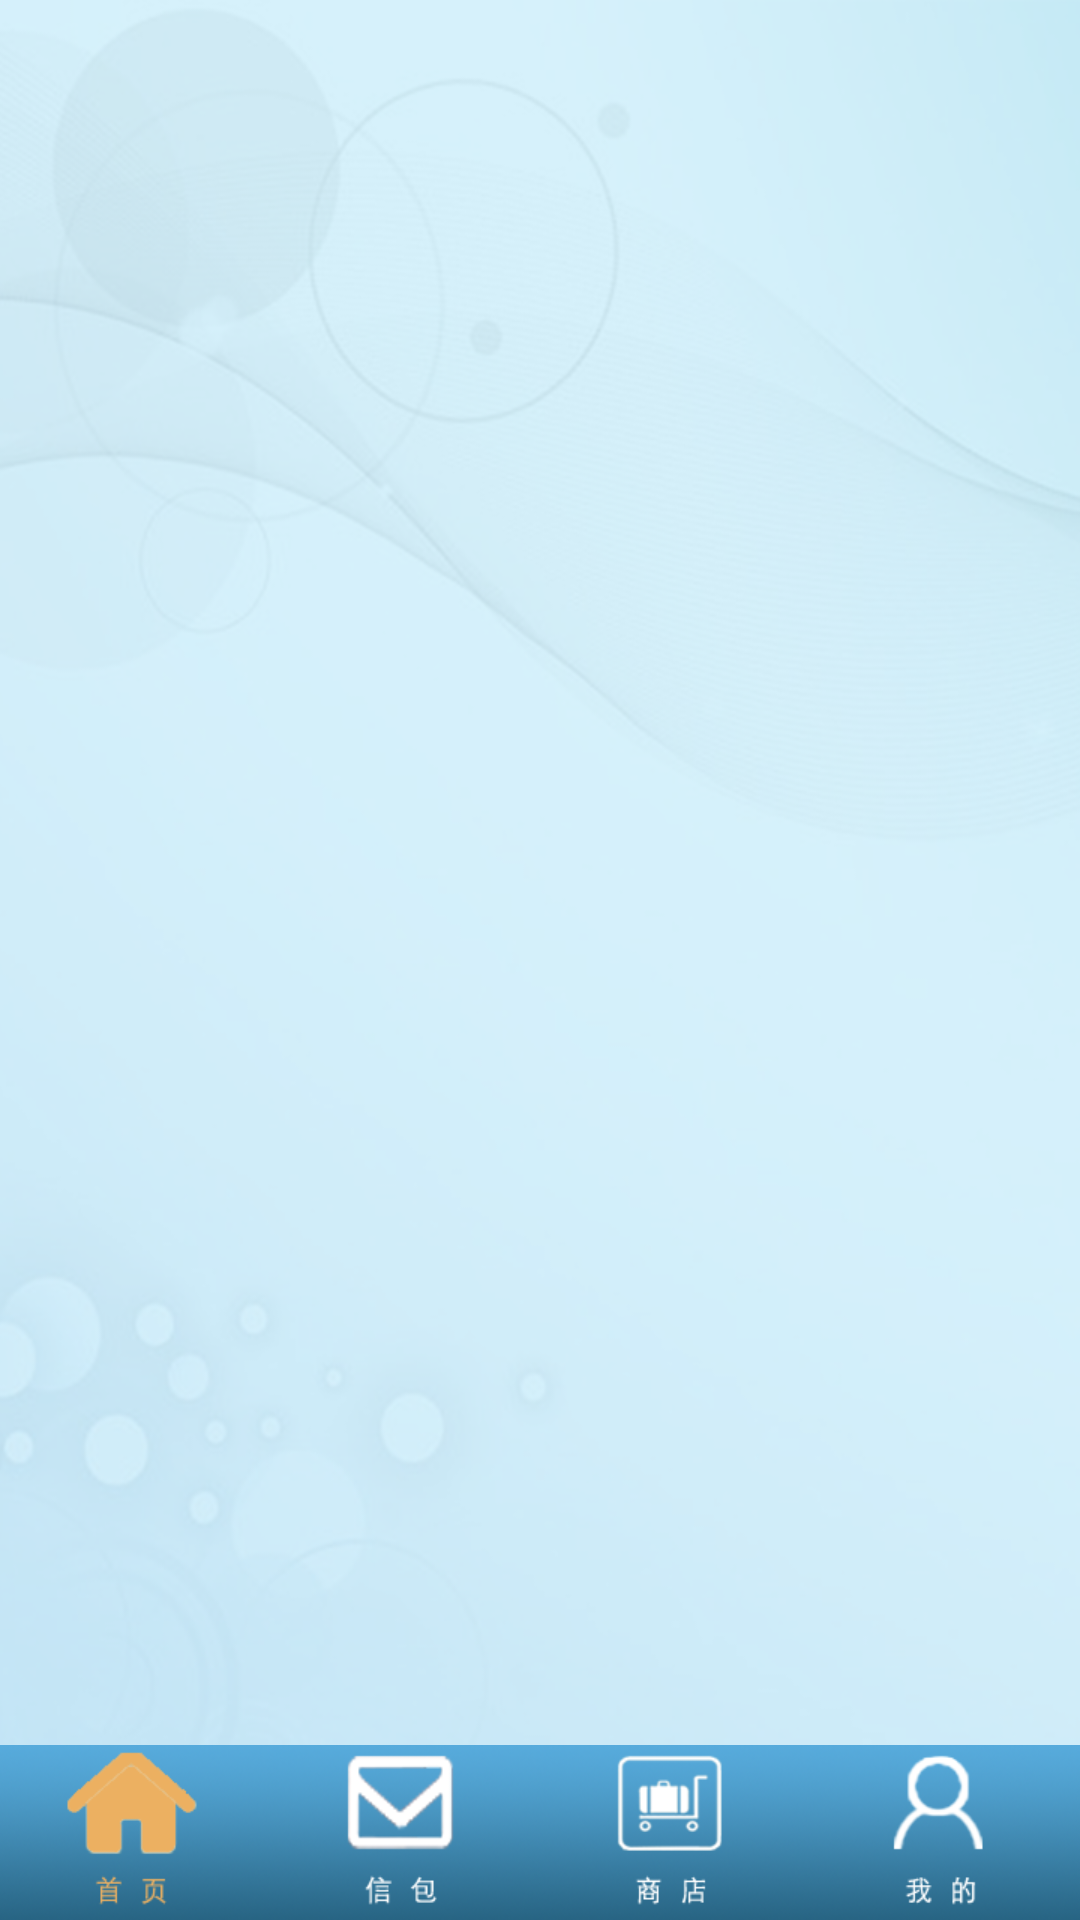

Screen size 1080*1920. Icon name, then its center in pixels as (x,y):
post: (405,1832)
